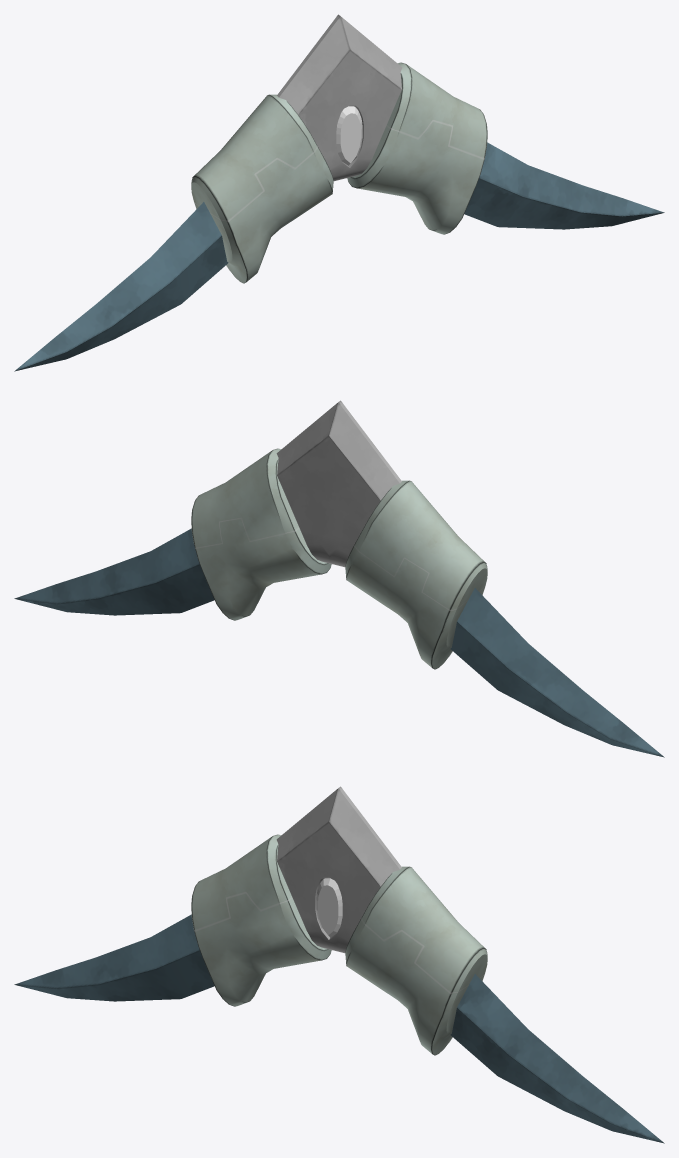
The model's file is Boomerang.fbx.
The picture shows the model from 3 angles, top to bottom: view 1: azimuth 30°, elevation 25°; view 2: azimuth 150°, elevation 25°; view 3: azimuth 330°, elevation 25°; orthographic projection.
Visible parts, largest first — view 1: Cube; view 2: Cube; view 3: Cube.
Part boxes in pixels (x1,y1,x2,y2): Cube: (14,14,664,371); Cube: (14,400,664,757); Cube: (14,786,664,1143).
Size of the model in its own units: 238 by 97.05 by 22.11.
2 materials, 1 textured.
